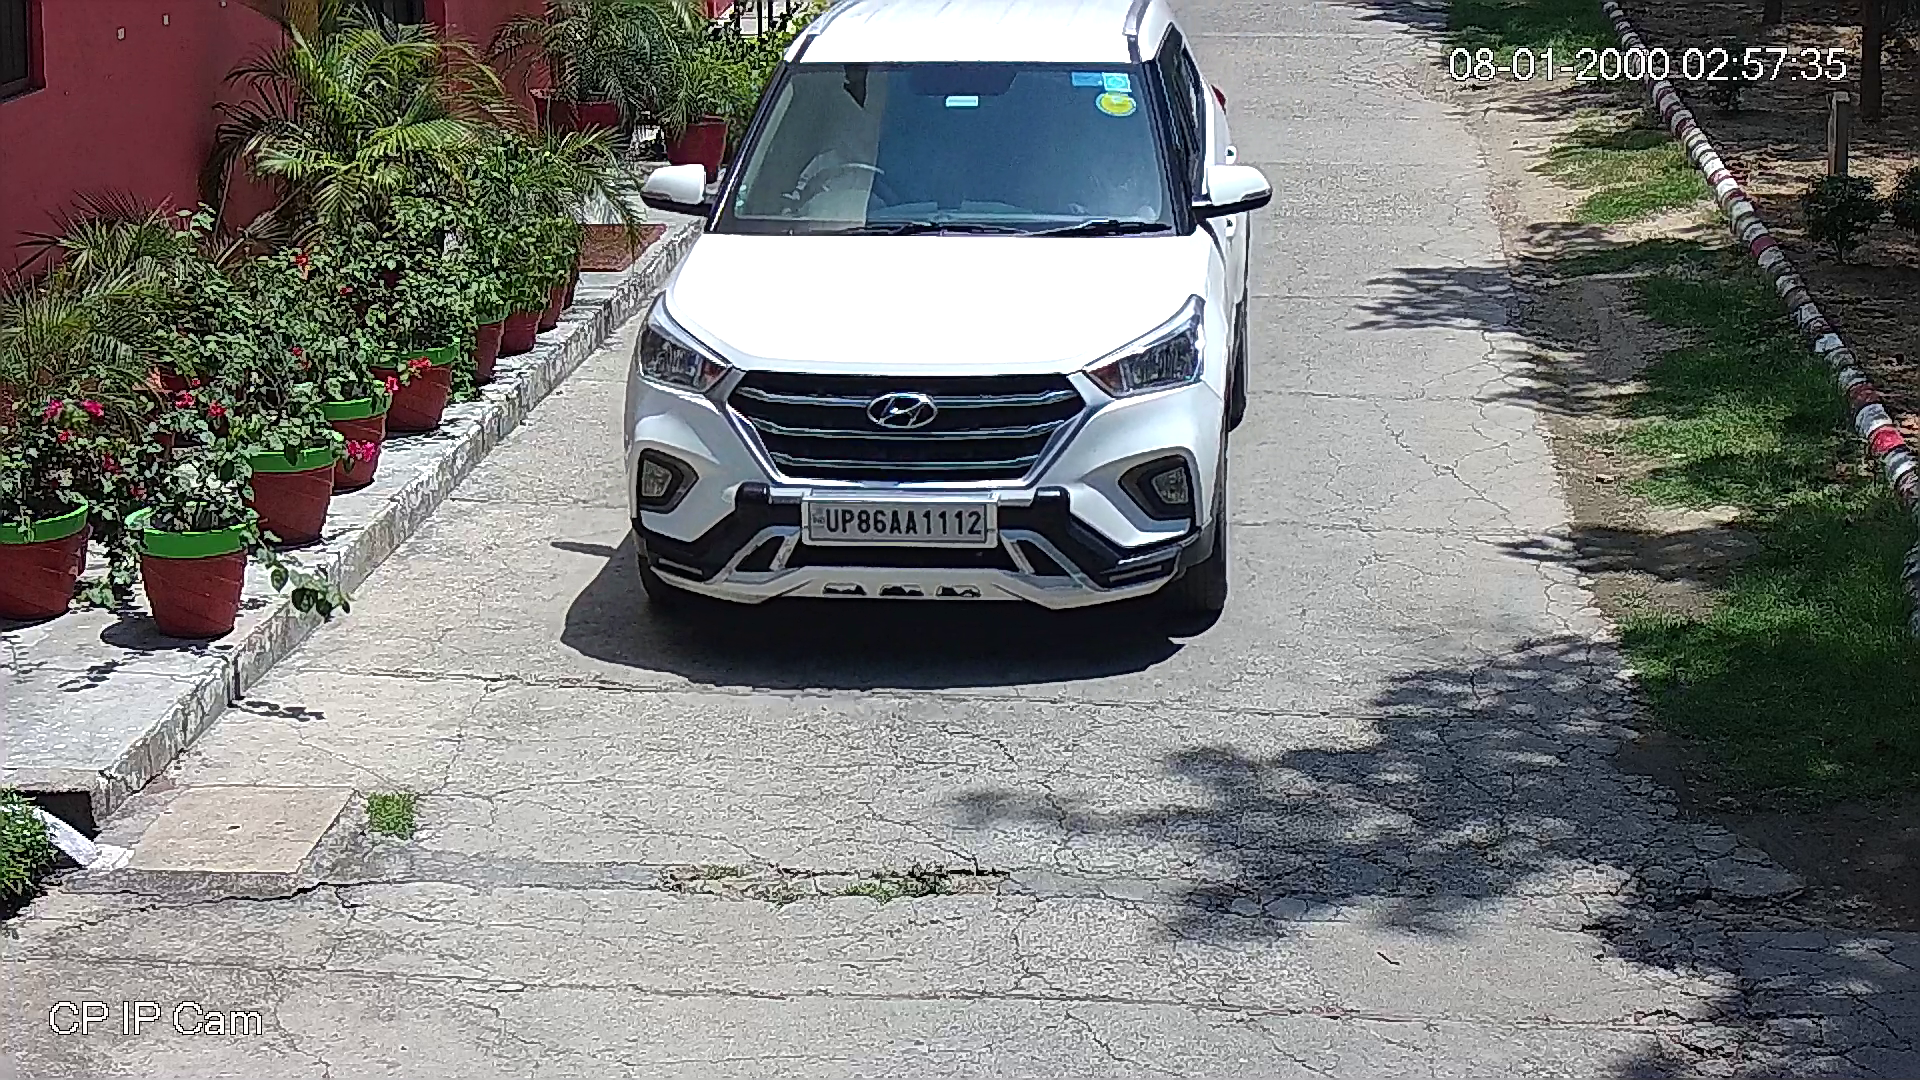plate: (796, 492, 1001, 549)
